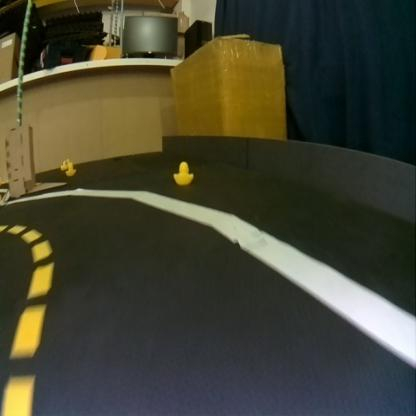Duckie: (173, 161, 192, 185), (65, 163, 75, 175), (66, 158, 72, 166), (61, 160, 66, 169)
